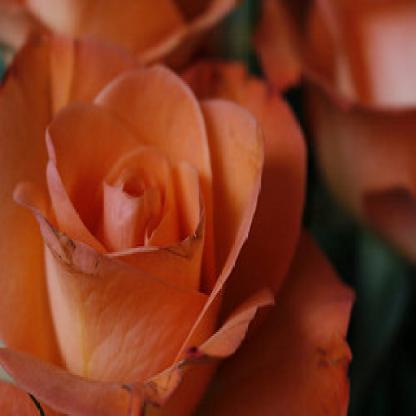Rose-Mawar: (10, 62, 348, 411)
